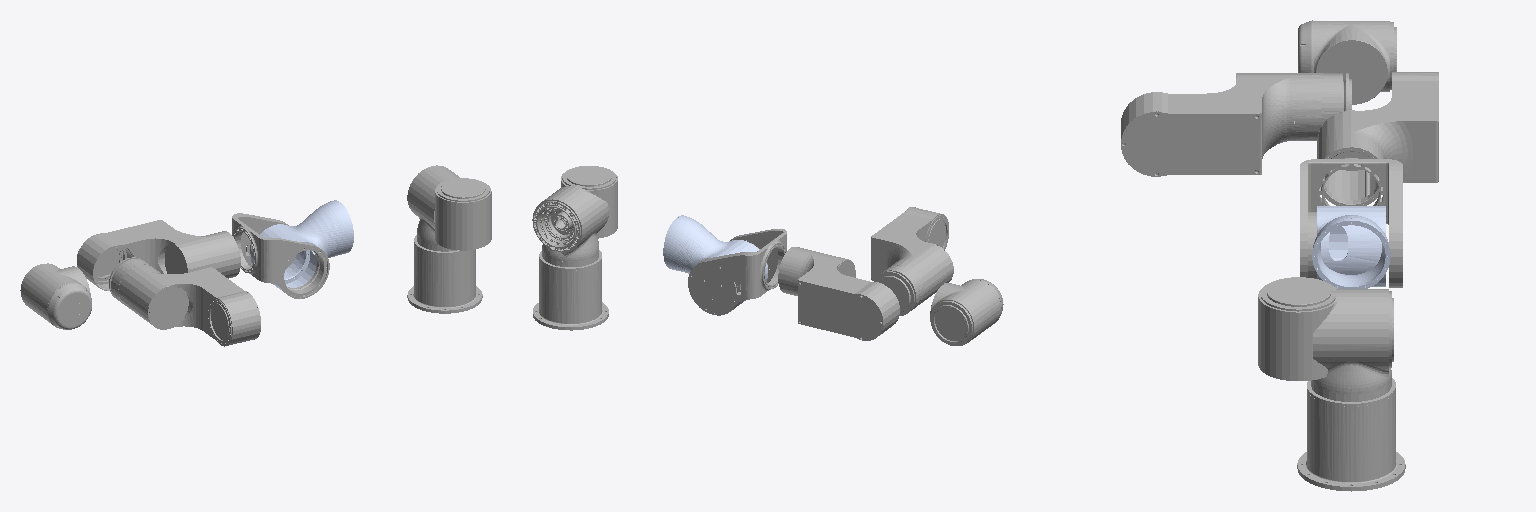
The robot description file, URDF, robot "w10new":
<?xml version="1.0" encoding="utf-8"?>
<!-- This URDF was automatically created by SolidWorks to URDF Exporter! Originally created by Stephen Brawner (brawner@gmail.com) 
     Commit Version: 1.6.0-4-g7f85cfe  Build Version: 1.6.7995.38578
     For more information, please see http://wiki.ros.org/sw_urdf_exporter -->
<robot
  name="w10new">
  <link
    name="base_link">
    <inertial>
      <origin
        xyz="-4.5208E-06 1.396E-06 0.091972"
        rpy="0 0 0" />
      <mass
        value="2.2909" />
      <inertia
        ixx="0.007292"
        ixy="-9.2658E-08"
        ixz="-1.0714E-07"
        iyy="0.007285"
        iyz="-4.5939E-07"
        izz="0.0085503" />
    </inertial>
    <visual>
      <origin
        xyz="0 0 0"
        rpy="0 0 0" />
      <geometry>
        <mesh
          filename="package://w10_sim/meshes/base_link.STL" />
      </geometry>
      <material
        name="">
        <color
          rgba="0.75294 0.75294 0.75294 1" />
      </material>
    </visual>
    <collision>
      <origin
        xyz="0 0 0"
        rpy="0 0 0" />
      <geometry>
        <mesh
          filename="package://w10_sim/meshes/base_link.STL" />
      </geometry>
    </collision>
  </link>
  <link
    name="Link1">
    <inertial>
      <origin
        xyz="-7.7498E-06 0.0074712 0.23729"
        rpy="0 0 0" />
      <mass
        value="1.7902" />
      <inertia
        ixx="0.0044326"
        ixy="-9.695E-07"
        ixz="-2.9741E-06"
        iyy="0.005783"
        iyz="6.3081E-05"
        izz="0.004111" />
    </inertial>
    <visual>
      <origin
        xyz="0 0 0"
        rpy="0 0 0" />
      <geometry>
        <mesh
          filename="package://w10_sim/meshes/Link1.STL" />
      </geometry>
      <material
        name="">
        <color
          rgba="0.75294 0.75294 0.75294 1" />
      </material>
    </visual>
    <collision>
      <origin
        xyz="0 0 0"
        rpy="0 0 0" />
      <geometry>
        <mesh
          filename="package://w10_sim/meshes/Link1.STL" />
      </geometry>
    </collision>
  </link>
  <joint
    name="Joint1"
    type="revolute">
    <origin
      xyz="0 0 0"
      rpy="0 0 0" />
    <parent
      link="base_link" />
    <child
      link="Link1" />
    <axis
      xyz="0 0 1" />
    <limit
      lower="-3.14159"
      upper="3.14159"
      effort="150"
      velocity="1.57" />
  </joint>
  <link
    name="Link2">
    <inertial>
      <origin
        xyz="0.00037178 0.16001 -4.5604E-05"
        rpy="0 0 0" />
      <mass
        value="3.6686" />
      <inertia
        ixx="0.0194"
        ixy="6.6606E-05"
        ixz="-7.1662E-05"
        iyy="0.01431"
        iyz="0.00050157"
        izz="0.016052" />
    </inertial>
    <visual>
      <origin
        xyz="0 0 0"
        rpy="0 0 0" />
      <geometry>
        <mesh
          filename="package://w10_sim/meshes/Link2.STL" />
      </geometry>
      <material
        name="">
        <color
          rgba="0.75294 0.75294 0.75294 1" />
      </material>
    </visual>
    <collision>
      <origin
        xyz="0 0 0"
        rpy="0 0 0" />
      <geometry>
        <mesh
          filename="package://w10_sim/meshes/Link2.STL" />
      </geometry>
    </collision>
  </link>
  <joint
    name="Joint2"
    type="revolute">
    <origin
      xyz="0 0 0.248"
      rpy="1.5708 -1.5708 0" />
    <parent
      link="Link1" />
    <child
      link="Link2" />
    <axis
      xyz="0 0 -1" />
    <limit
      lower="-3.14159"
      upper="3.14159"
      effort="150"
      velocity="1.57" />
  </joint>
  <link
    name="Link3">
    <inertial>
      <origin
        xyz="0.0317650732299706 -8.75058174038268E-05 -0.0401197895533406"
        rpy="0 0 0" />
      <mass
        value="1.08340806836632" />
      <inertia
        ixx="0.0055354350246501"
        ixy="-1.24970567336768E-05"
        ixz="-0.0012018205685461"
        iyy="0.00676653220988555"
        iyz="-1.1936128068962E-05"
        izz="0.00377122222019624" />
    </inertial>
    <visual>
      <origin
        xyz="0 0 0"
        rpy="0 0 0" />
      <geometry>
        <mesh
          filename="package://w10_sim/meshes/Link3.STL" />
      </geometry>
      <material
        name="">
        <color
          rgba="0.866666666666667 0.909803921568627 1 1" />
      </material>
    </visual>
    <collision>
      <origin
        xyz="0 0 0"
        rpy="0 0 0" />
      <geometry>
        <mesh
          filename="package://w10_sim/meshes/Link3.STL" />
      </geometry>
    </collision>
  </link>
  <joint
    name="Joint3"
    type="revolute">
    <origin
      xyz="0 0.425 0"
      rpy="1.5708 0 -3.1416" />
    <parent
      link="Link2" />
    <child
      link="Link3" />
    <axis
      xyz="0 0 1" />
    <limit
      lower="-3.14159"
      upper="3.14159"
      effort="150"
      velocity="1.57" />
  </joint>
  <link
    name="Link4">
    <inertial>
      <origin
        xyz="0.0160855337130036 0.0244220238192113 -0.0140914135214584"
        rpy="0 0 0" />
      <mass
        value="2.95948805637316" />
      <inertia
        ixx="0.00986102443186048"
        ixy="-0.000785511294194122"
        ixz="-5.30757510475327E-05"
        iyy="0.00939426486393401"
        iyz="-0.000322215108284144"
        izz="0.00792432385260811" />
    </inertial>
    <visual>
      <origin
        xyz="0 0 0"
        rpy="0 0 0" />
      <geometry>
        <mesh
          filename="package://w10_sim/meshes/Link4.STL" />
      </geometry>
      <material
        name="">
        <color
          rgba="0.752941176470588 0.752941176470588 0.752941176470588 1" />
      </material>
    </visual>
    <collision>
      <origin
        xyz="0 0 0"
        rpy="0 0 0" />
      <geometry>
        <mesh
          filename="package://w10_sim/meshes/Link4.STL" />
      </geometry>
    </collision>
  </link>
  <joint
    name="Joint4"
    type="revolute">
    <origin
      xyz="0.05 0 0"
      rpy="1.5708 0 3.1416" />
    <parent
      link="Link3" />
    <child
      link="Link4" />
    <axis
      xyz="0 0 -1" />
    <limit
      lower="-3.14159"
      upper="3.14159"
      effort="150"
      velocity="1.57" />
  </joint>
  <link
    name="Link5">
    <inertial>
      <origin
        xyz="6.72056388206776E-06 -0.0367557919639413 -0.181485998918127"
        rpy="0 0 0" />
      <mass
        value="2.83332837536096" />
      <inertia
        ixx="0.0154967151939413"
        ixy="2.47801432245023E-07"
        ixz="-8.02945241132858E-08"
        iyy="0.0143840168739248"
        iyz="0.00397451877041743"
        izz="0.00790844728912351" />
    </inertial>
    <visual>
      <origin
        xyz="0 0 0"
        rpy="0 0 0" />
      <geometry>
        <mesh
          filename="package://w10_sim/meshes/Link5.STL" />
      </geometry>
      <material
        name="">
        <color
          rgba="0.752941176470588 0.752941176470588 0.752941176470588 1" />
      </material>
    </visual>
    <collision>
      <origin
        xyz="0 0 0"
        rpy="0 0 0" />
      <geometry>
        <mesh
          filename="package://w10_sim/meshes/Link5.STL" />
      </geometry>
    </collision>
  </link>
  <joint
    name="Joint5"
    type="revolute">
    <origin
      xyz="0.05 0.4267 0"
      rpy="1.5708 0 3.1416" />
    <parent
      link="Link4" />
    <child
      link="Link5" />
    <axis
      xyz="0 0 1" />
    <limit
      lower="-3.14159"
      upper="3.14159"
      effort="150"
      velocity="1.57" />
  </joint>
  <link
    name="Link6">
    <inertial>
      <origin
        xyz="-7.4172E-05 -0.0056448 -0.035346"
        rpy="0 0 0" />
      <mass
        value="2.9816" />
      <inertia
        ixx="0.0033715"
        ixy="-2.0791E-07"
        ixz="-6.4744E-08"
        iyy="0.0045824"
        iyz="1.1174E-05"
        izz="0.0039673" />
    </inertial>
    <visual>
      <origin
        xyz="0 0 0"
        rpy="0 0 0" />
      <geometry>
        <mesh
          filename="package://w10_sim/meshes/Link6.STL" />
      </geometry>
      <material
        name="">
        <color
          rgba="0.75294 0.75294 0.75294 1" />
      </material>
    </visual>
    <collision>
      <origin
        xyz="0 0 0"
        rpy="0 0 0" />
      <geometry>
        <mesh
          filename="package://w10_sim/meshes/Link6.STL" />
      </geometry>
    </collision>
  </link>
  <joint
    name="Joint6"
    type="revolute">
    <origin
      xyz="0 -0.000937 0"
      rpy="1.5708 0 -3.1416" />
    <parent
      link="Link5" />
    <child
      link="Link6" />
    <axis
      xyz="0 0 -1" />
    <limit
      lower="-3.14159"
      upper="3.14159"
      effort="150"
      velocity="1.57" />
  </joint>
  <link
    name="Link7">
    <inertial>
      <origin
        xyz="0.00037847 0.00049256 -0.026974"
        rpy="0 0 0" />
      <mass
        value="1.298" />
      <inertia
        ixx="0.00095899"
        ixy="-3.4434E-06"
        ixz="6.3871E-07"
        iyy="0.0009081"
        iyz="-1.5055E-06"
        izz="0.0017806" />
    </inertial>
    <visual>
      <origin
        xyz="0 0 0"
        rpy="0 0 0" />
      <geometry>
        <mesh
          filename="package://w10_sim/meshes/Link7.STL" />
      </geometry>
      <material
        name="">
        <color
          rgba="0.75294 0.75294 0.75294 1" />
      </material>
    </visual>
    <collision>
      <origin
        xyz="0 0 0"
        rpy="0 0 0" />
      <geometry>
        <mesh
          filename="package://w10_sim/meshes/Link7.STL" />
      </geometry>
    </collision>
  </link>
  <joint
    name="Joint7"
    type="revolute">
    <origin
      xyz="0 0.1334 0"
      rpy="1.5708 0 3.1416" />
    <parent
      link="Link6" />
    <child
      link="Link7" />
    <axis
      xyz="0 0 1" />
    <limit
      lower="-3.14159"
      upper="3.14159"
      effort="150"
      velocity="1.57" />
  </joint>
</robot>

--- Render facts (derived) ---
3 views of the same robot in one strip: view 1: azimuth 30°, elevation 25°; view 2: azimuth 150°, elevation 25°; view 3: azimuth 270°, elevation 25° (orthographic).
Robot: w10new — 8 links, 7 joints (7 revolute); root link base_link; default pose: every joint at zero.
Visible links, largest first — view 1: Link6, Link5, base_link, Link4, Link2, Link3, Link7, Link1; view 2: Link5, Link6, Link4, base_link, Link1, Link7, Link3, Link2; view 3: Link6, Link5, base_link, Link1, Link2, Link7, Link3, Link4.
Link boxes in pixels (x1,y1,x2,y2): Link6: (109, 257, 260, 346); Link5: (77, 220, 240, 290); base_link: (407, 235, 482, 313); Link4: (232, 213, 329, 298); Link2: (435, 178, 491, 250); Link3: (251, 200, 353, 289); Link7: (20, 263, 91, 329); Link1: (407, 165, 459, 245); Link5: (778, 247, 899, 340); Link6: (871, 207, 953, 315); Link4: (688, 229, 786, 315); base_link: (533, 250, 608, 330); Link1: (532, 184, 608, 261); Link7: (930, 279, 1003, 345); Link3: (663, 215, 767, 305); Link2: (561, 166, 617, 238); Link6: (1121, 73, 1351, 176); Link5: (1317, 72, 1438, 205); base_link: (1297, 378, 1405, 491); Link1: (1312, 289, 1393, 393); Link2: (1258, 277, 1338, 380); Link7: (1298, 20, 1396, 104); Link3: (1312, 206, 1390, 288); Link4: (1300, 158, 1402, 287).
Size in the robot's own frame: 1.19 by 0.5153 by 0.317 metres.
Meshes: 8 distinct files referenced, 8 mesh visuals loaded (8 binary STL).
